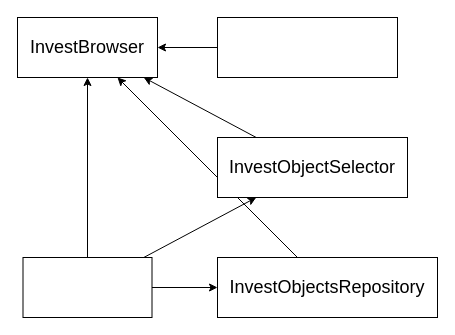
Some shapes in this 455 by 335 pixel diagram are drawn without their labels. The centre of each missing label's shape, as x and y in pixels:
InvestBrowserUser: pixel 307 47
InvestObject: pixel 87 287
